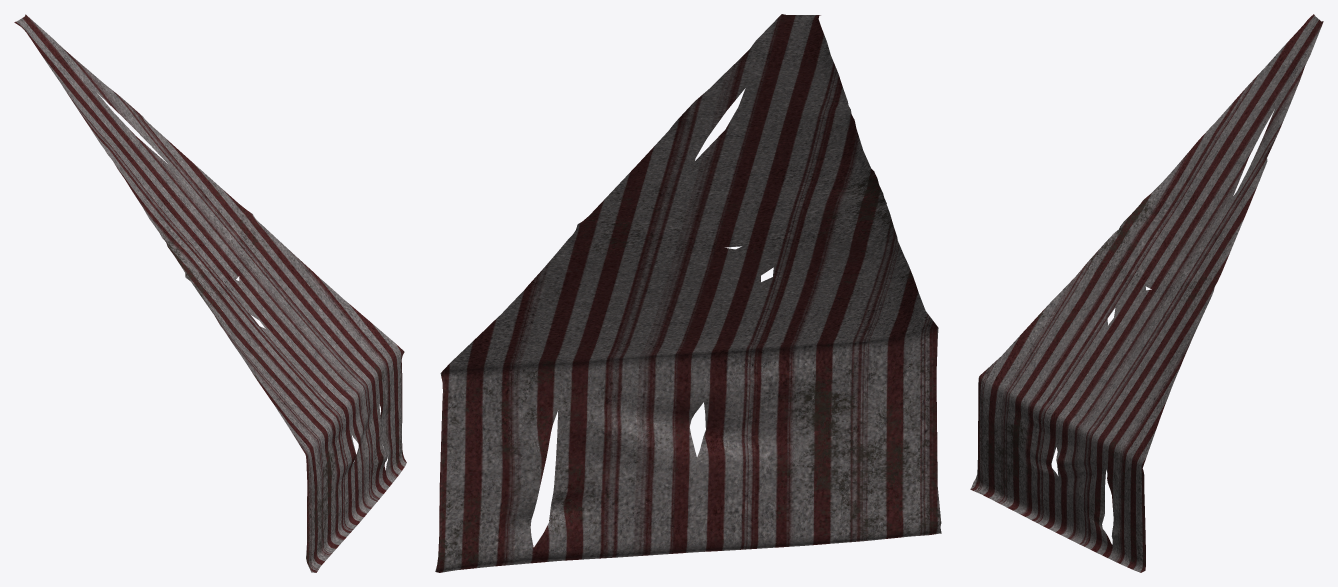
The model's file is Tent_P_Rag01.FBX.
The picture shows the model from 3 angles, left to right: view 1: azimuth 30°, elevation 25°; view 2: azimuth 150°, elevation 25°; view 3: azimuth 270°, elevation 25°; orthographic projection. The views are drawn at different scales.
Visible parts, largest first — view 1: Tent_P_Rag01; view 2: Tent_P_Rag01; view 3: Tent_P_Rag01.
Boxes of the visible parts, bbox=[...] form: Tent_P_Rag01: bbox=[14, 14, 406, 572]; Tent_P_Rag01: bbox=[435, 14, 941, 572]; Tent_P_Rag01: bbox=[970, 14, 1323, 572].
Size of the model in its own units: 1218 by 1727 by 1315.
